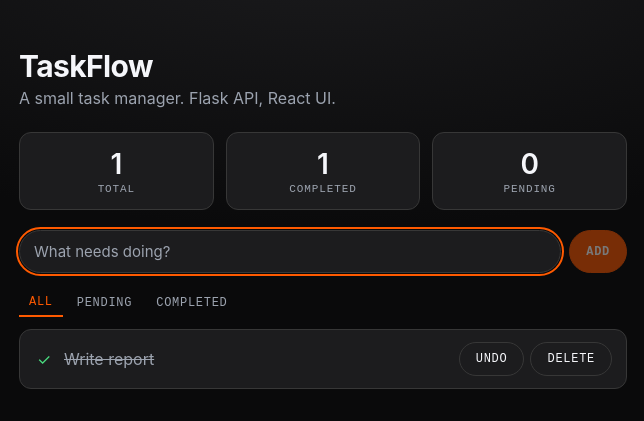
App › keeps the error banner visible after a failed action and still refreshes
This screenshot has width=644, height=421.
Expected: the text "Write report" is shown, top-left (64, 349), bottom-right (154, 369)
Click the button "Undo": click(492, 359) top-left (459, 342), bottom-right (524, 376)
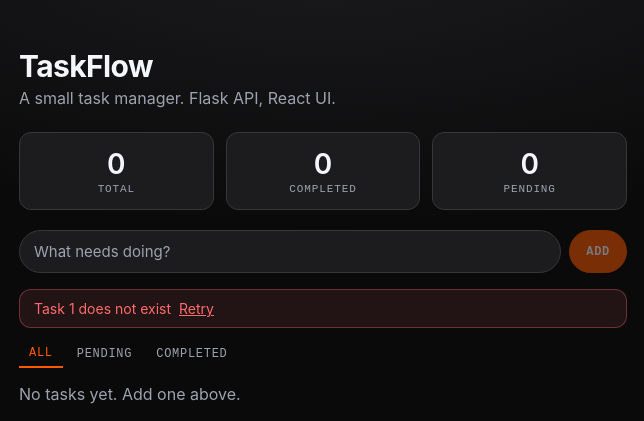
Expected: the text "No tasks yet. Add one above." is shown, top-left (19, 384), bottom-right (241, 404)
Expected: the message shows "Task 1 does not exist", top-left (34, 300), bottom-right (171, 317)
